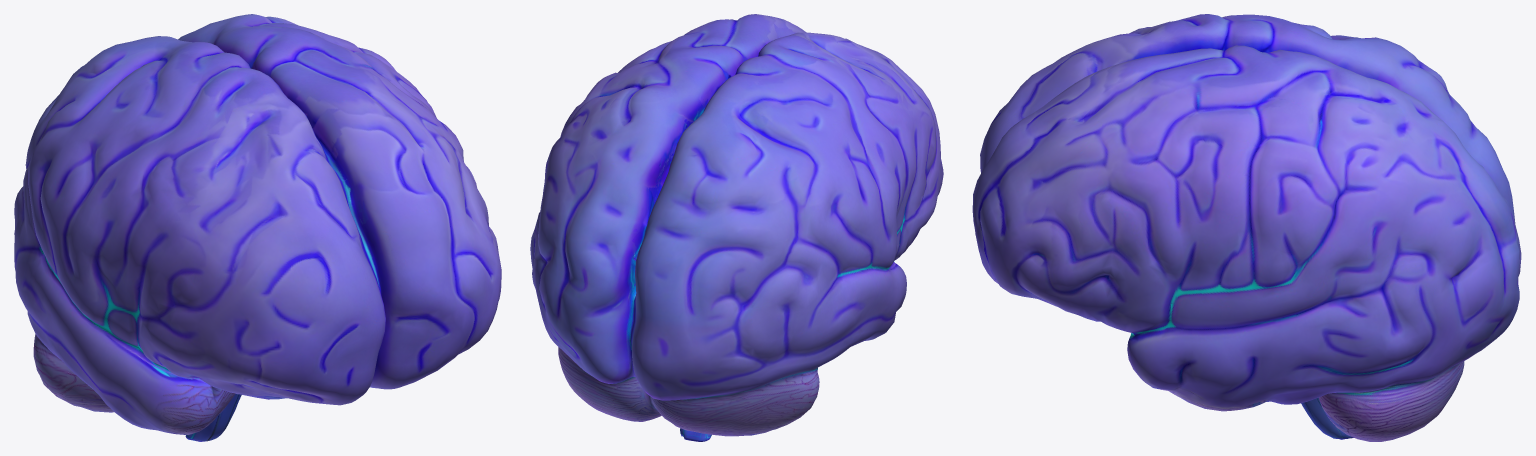
The model's file is brain.glb.
3 renders of one model, left to right at view 1: azimuth 30°, elevation 25°; view 2: azimuth 150°, elevation 25°; view 3: azimuth 270°, elevation 25°, orthographic. The views are drawn at different scales.
Size of the model in its own units: 1.45 by 1.6 by 1.99.
Materials: 1 (1 with a texture image).
